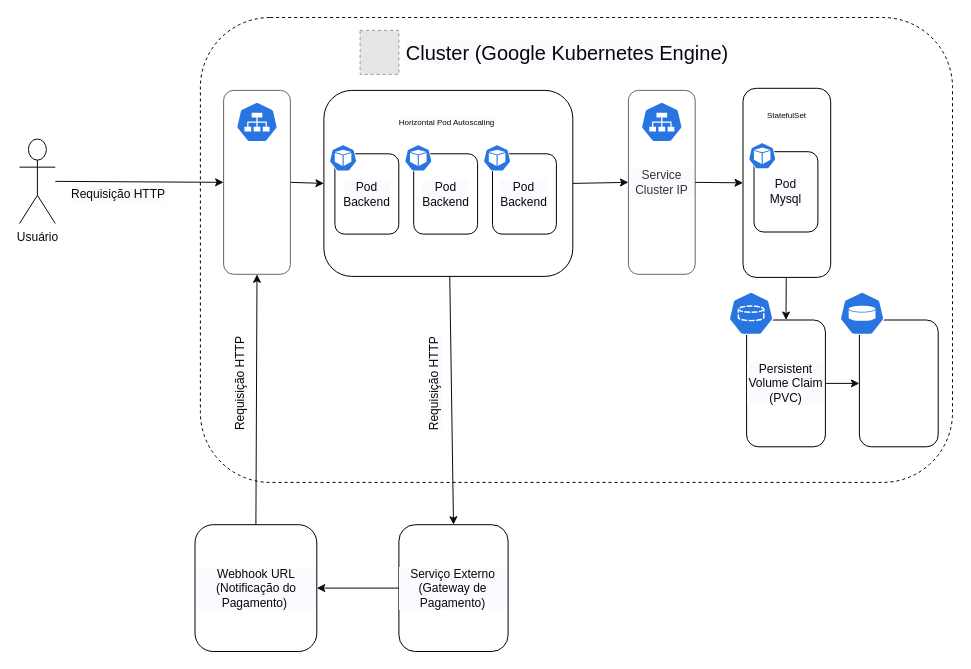
This 971x669 diagram has some shape labels left out. Grey dashed boxes stand in for pictures. Each missing label, with the box of its shape:
Persistent Volume (PV): (858, 319, 938, 447)
Service Load Balance: (223, 89, 290, 274)
